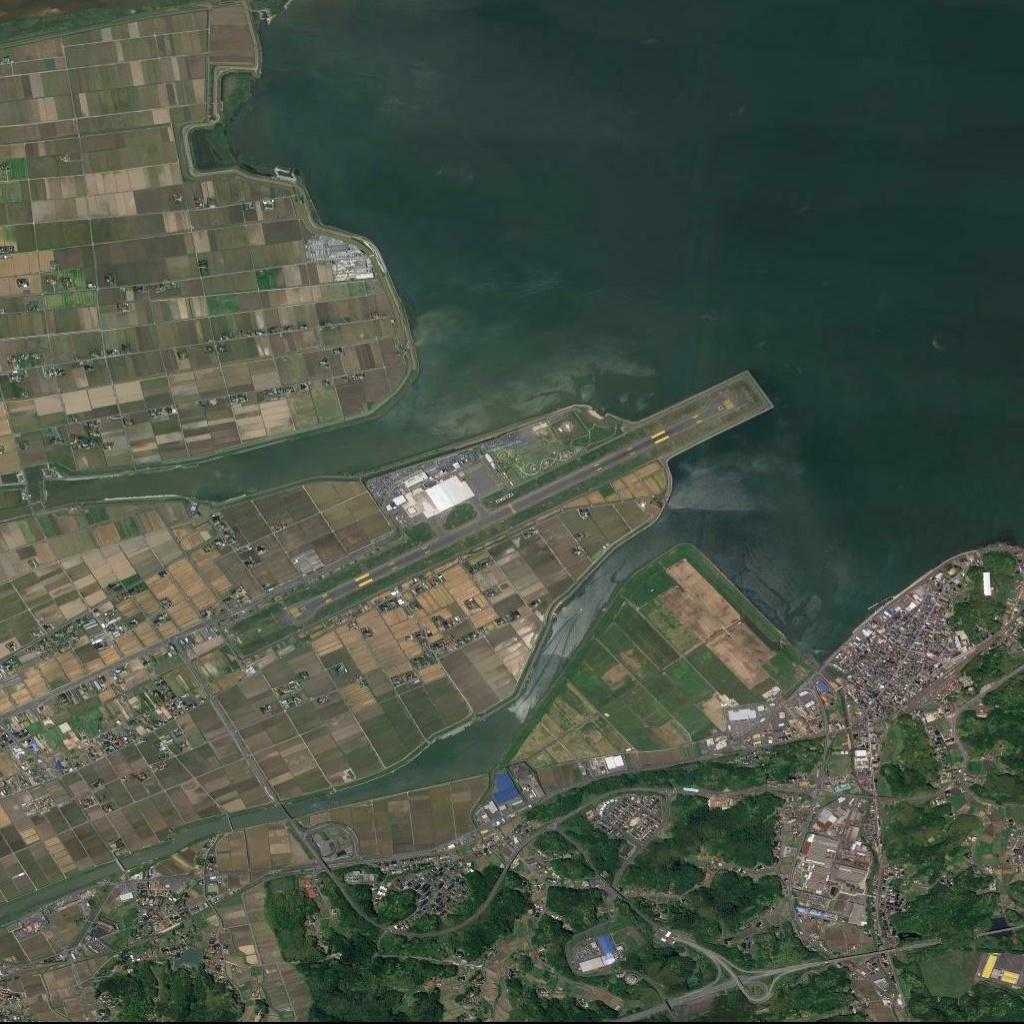harbor: (249, 8, 273, 21)
